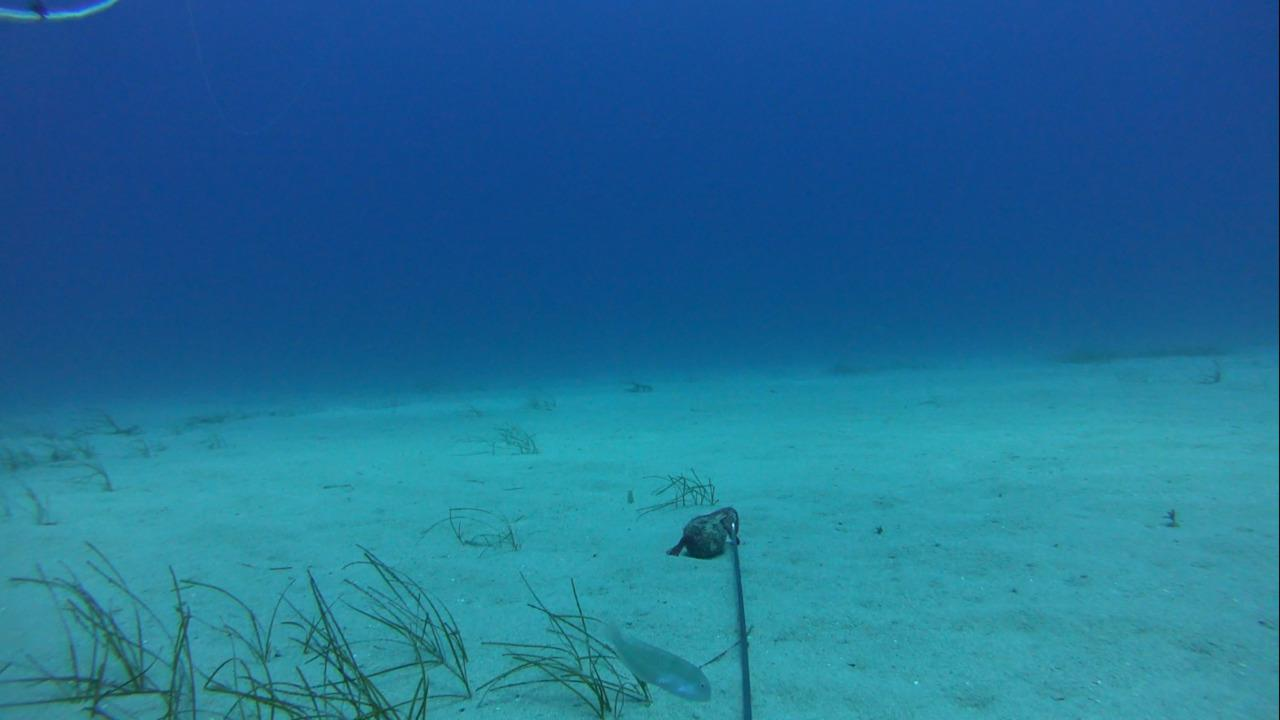raor: (600, 614, 719, 702)
